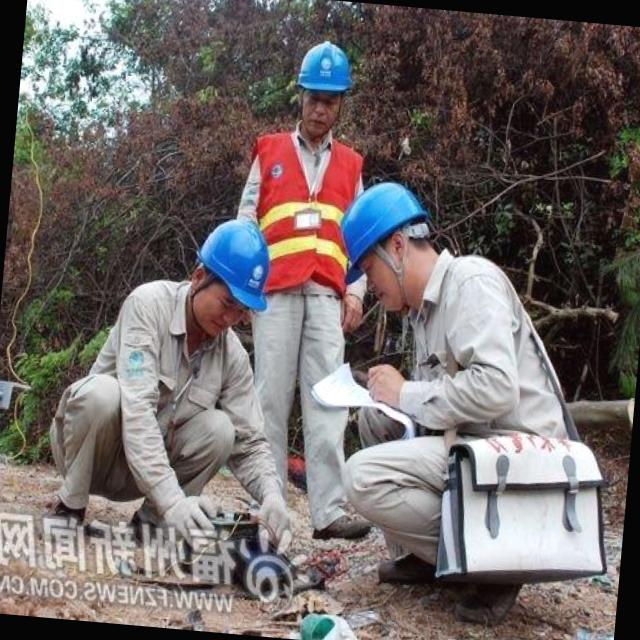helmet: (336, 170, 426, 280), (193, 213, 272, 313), (292, 38, 351, 97)
no-vest: (392, 247, 528, 452), (89, 316, 240, 478)
vest: (255, 135, 356, 299)
